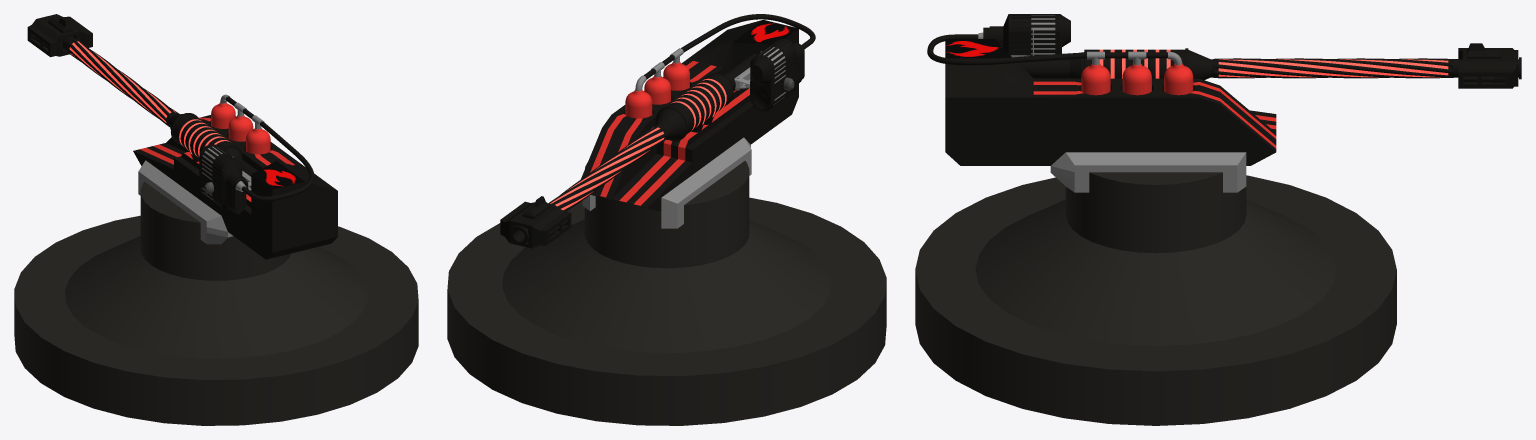
File: sniper_L3.fbx
3 views of the same model, side by side, from view 1: azimuth 30°, elevation 25°; view 2: azimuth 150°, elevation 25°; view 3: azimuth 270°, elevation 25° (orthographic). The views are drawn at different scales.
Parts seen in each view (by area): view 1: Circle.001, Plane.001, Cylinder.010, Plane, Cylinder.009, Cube.001, Cube.010, Cylinder.003, NurbsPath; view 2: Circle.001, Plane.001, Cylinder.010, Plane, Cylinder.009, Cube.001, Cube.010, Cylinder.003, NurbsPath; view 3: Circle.001, Plane, Cylinder.010, Cube.001, Cylinder.009, Cylinder.003, Cube.010, NurbsPath, Plane.001.
Part boxes in pixels (x1,y1,x2,y2): Circle.001: [14, 181, 418, 425]; Plane.001: [133, 143, 304, 259]; Cylinder.010: [63, 36, 257, 176]; Plane: [166, 115, 337, 251]; Cylinder.009: [199, 144, 248, 214]; Cube.001: [138, 160, 233, 244]; Cube.010: [27, 14, 92, 57]; Cylinder.003: [211, 102, 270, 154]; NurbsPath: [225, 96, 314, 201]; Circle.001: [447, 160, 886, 425]; Plane.001: [612, 19, 798, 211]; Cylinder.010: [510, 54, 757, 244]; Plane: [581, 20, 762, 201]; Cylinder.009: [750, 38, 804, 111]; Cube.001: [582, 137, 751, 228]; Cube.010: [500, 196, 571, 248]; Cylinder.003: [625, 62, 689, 118]; NurbsPath: [643, 14, 815, 79]; Circle.001: [915, 172, 1396, 425]; Plane: [945, 58, 1276, 165]; Cylinder.010: [1018, 48, 1521, 80]; Cube.001: [1050, 152, 1246, 192]; Cylinder.009: [983, 14, 1070, 55]; Cylinder.003: [1081, 63, 1193, 95]; Cube.010: [1458, 43, 1518, 88]; NurbsPath: [927, 34, 1167, 65]; Plane.001: [945, 39, 1276, 132].
Size of the model in its own units: 160 by 103 by 201.
